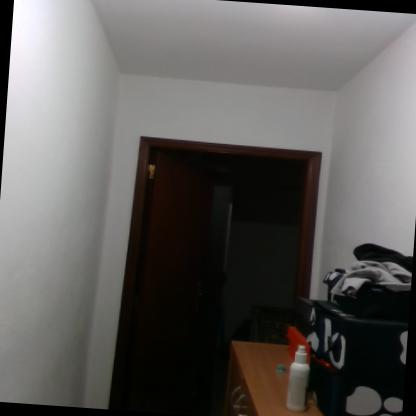open: (96, 109, 349, 415)
